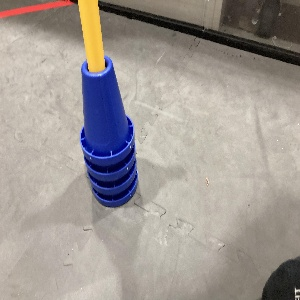Blue_4: (79, 56, 138, 204)
